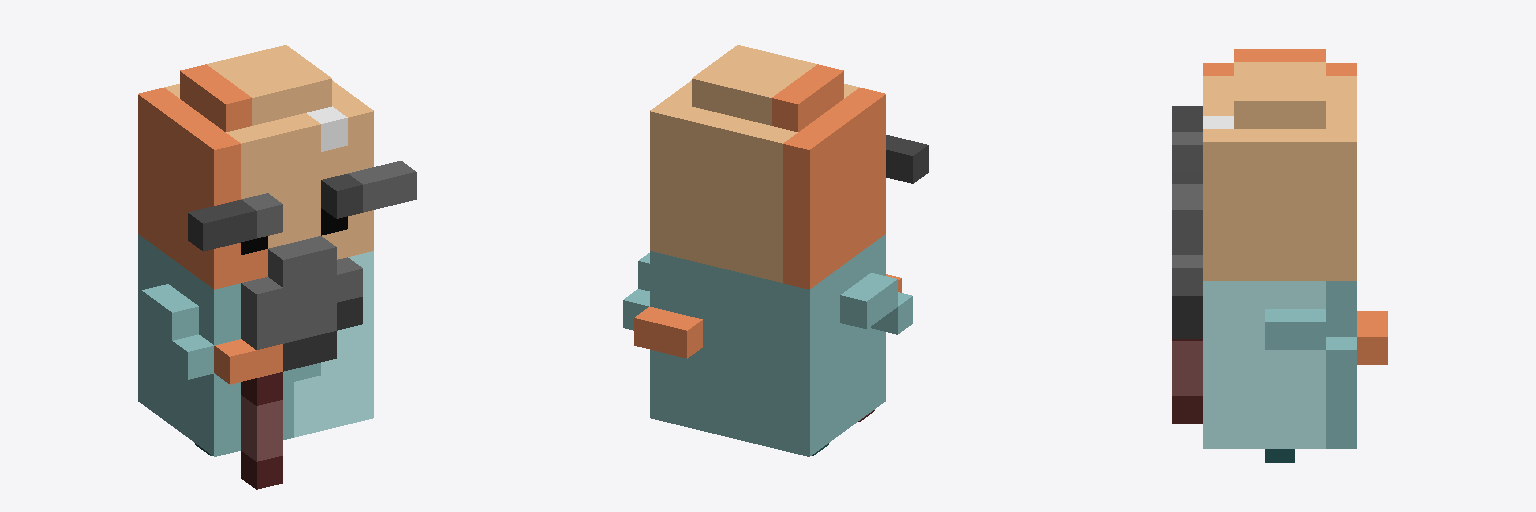
The picture shows the model from 3 angles: view 1: azimuth 30°, elevation 25°; view 2: azimuth 150°, elevation 25°; view 3: azimuth 270°, elevation 25°; orthographic projection.
Parts seen in each view (by area): view 1: Model; view 2: Model; view 3: Model.
Part boxes in pixels (left/top/right/bottom): Model: left=138, top=45, right=416, bottom=489; Model: left=623, top=45, right=928, bottom=456; Model: left=1172, top=49, right=1387, bottom=462.
Bounding box in the file's own units: 0.8 × 1.3 × 0.7.
1 materials, 1 textured.